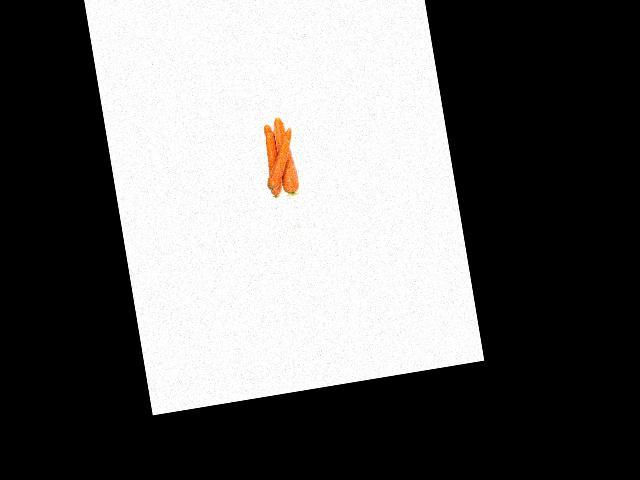carrot: (272, 113, 301, 197)
